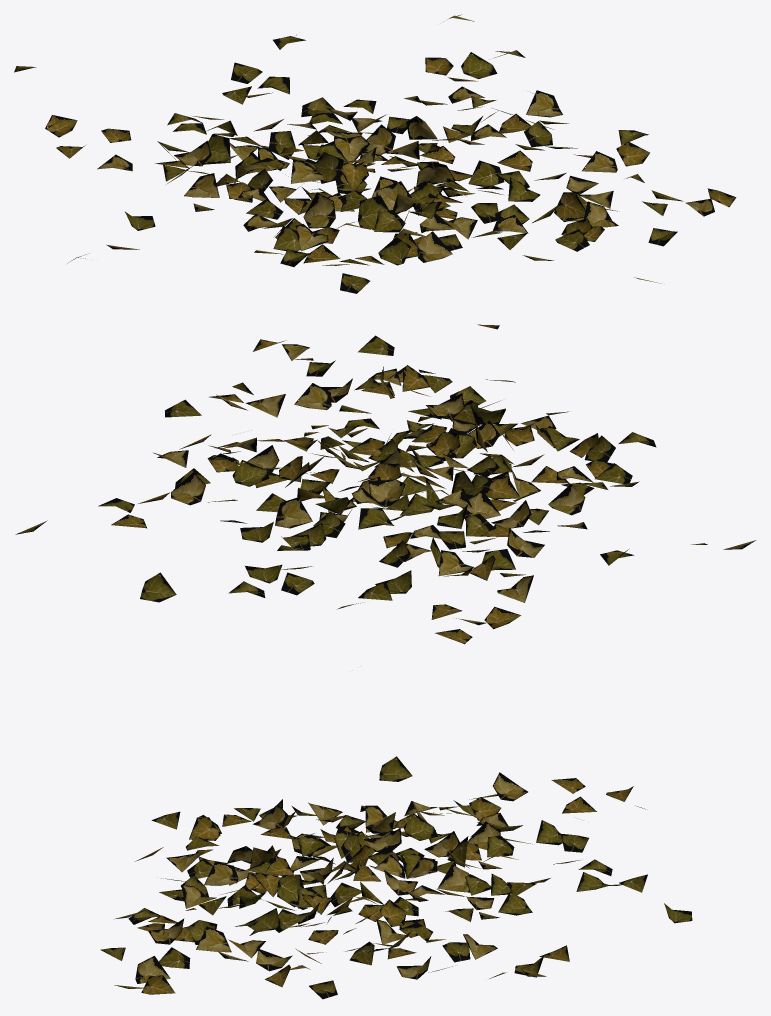
File: SM_LeavesPile_02a.gltf
The picture shows the model from 3 angles, top to bottom: view 1: azimuth 30°, elevation 25°; view 2: azimuth 150°, elevation 25°; view 3: azimuth 270°, elevation 25°; orthographic projection. The views are drawn at different scales.
Parts seen in each view (by area): view 1: SM_LeavesPile_02a_LOD0; view 2: SM_LeavesPile_02a_LOD0; view 3: SM_LeavesPile_02a_LOD0.
Boxes of the visible parts, x1,y1,x2,y2 form: SM_LeavesPile_02a_LOD0: (14,14,736,293); SM_LeavesPile_02a_LOD0: (15,324,756,644); SM_LeavesPile_02a_LOD0: (100,756,692,999).
Size of what is drawn, in the model's own units: 4.3 by 0.2401 by 4.97.
Materials: 1 (1 with a texture image).
